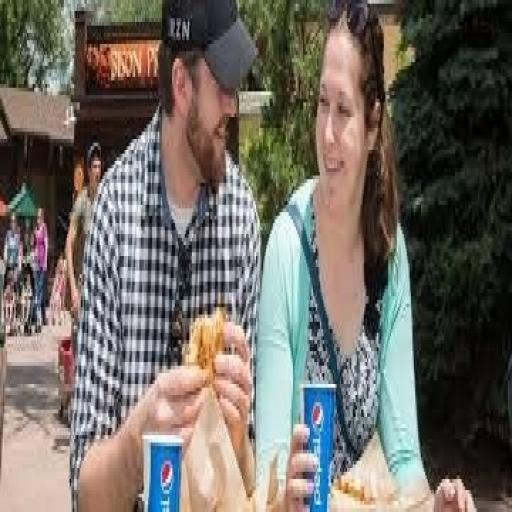eating: (64, 0, 475, 508)
